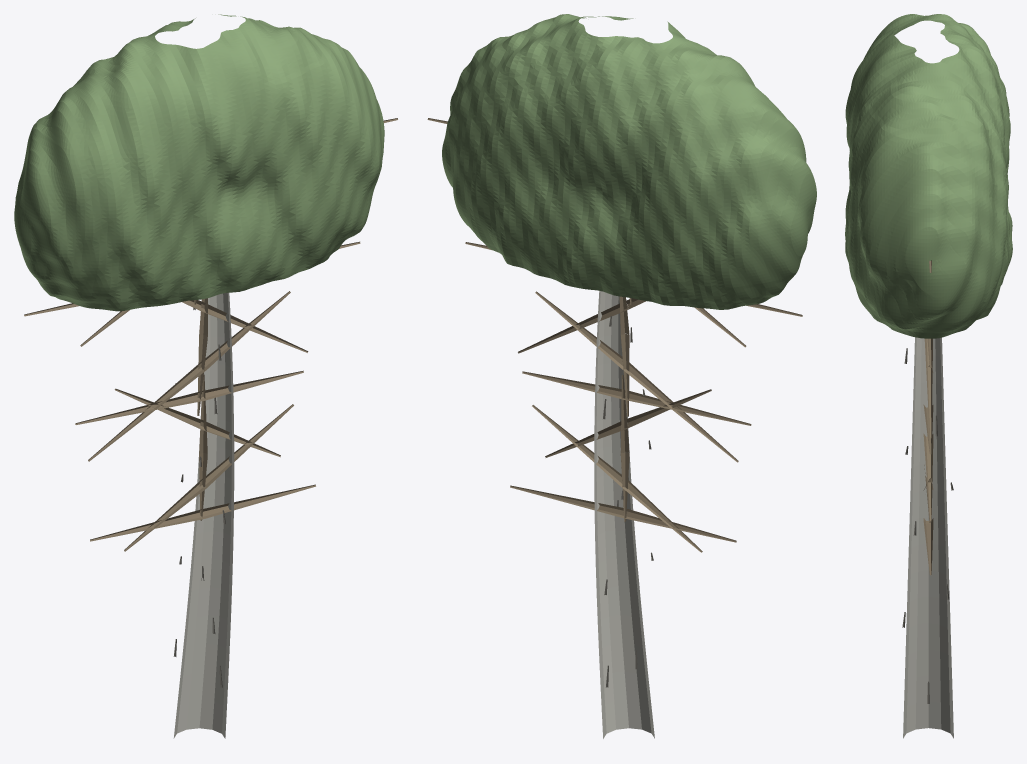
The model's file is taiga_birch.glb.
The picture shows the model from 3 angles, left to right: view 1: azimuth 30°, elevation 25°; view 2: azimuth 150°, elevation 25°; view 3: azimuth 270°, elevation 25°; orthographic projection.
Visible parts, largest first — view 1: taiga_birch; view 2: taiga_birch; view 3: taiga_birch.
Boxes of the visible parts, <box> form: taiga_birch: <box>14,14,397,738</box>; taiga_birch: <box>427,14,816,738</box>; taiga_birch: <box>845,14,1012,738</box>.
Size of the model in its own units: 3.87 by 6.95 by 1.51.
